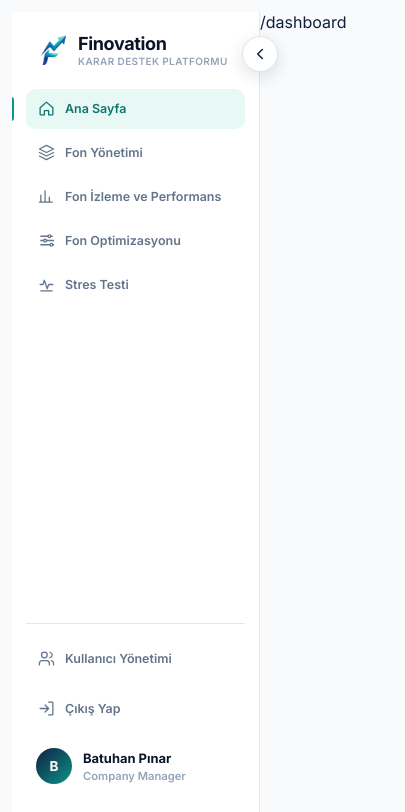
AppShell › menü bağlantısından ilgili ürün route'una geçer
Click the link "Fon İzleme ve Performans" at (129, 197), box x1=38 y1=188 x2=221 y2=205
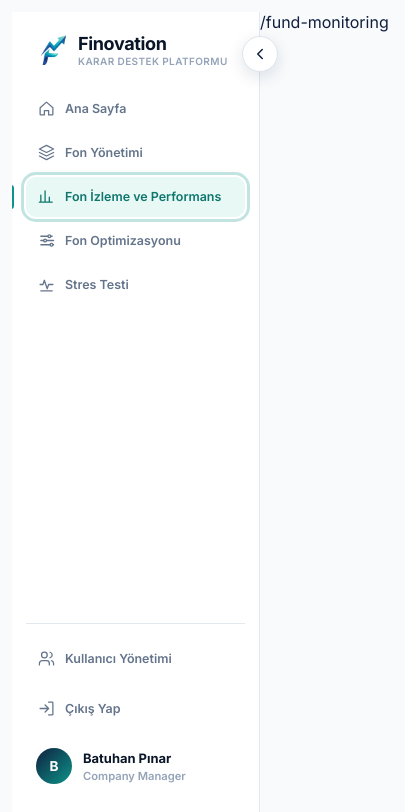
Check: the text with test id "location" reads "/fund-monitoring", box x1=260 y1=12 x2=389 y2=32
